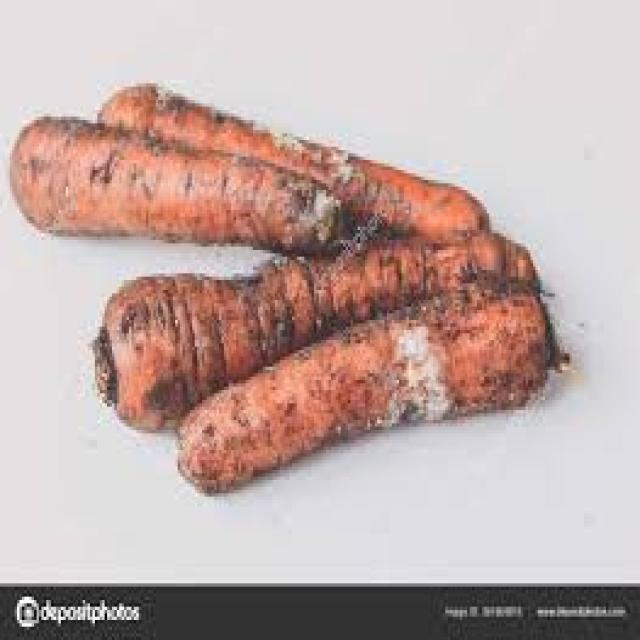Stale_Carrot: (0, 76, 518, 270), (94, 219, 555, 431), (157, 277, 602, 481)
